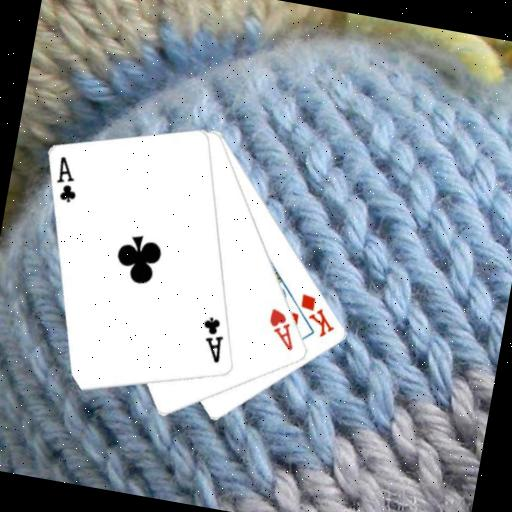AC: (194, 312, 229, 365), (50, 153, 85, 206)
AH: (261, 304, 302, 353)
KD: (291, 289, 341, 341)
